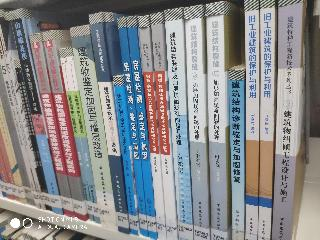book-spine: (9, 10, 62, 216), (71, 25, 116, 231), (266, 0, 304, 240), (89, 13, 129, 235), (0, 30, 45, 210), (43, 30, 85, 222), (30, 35, 72, 218), (118, 18, 148, 237), (0, 46, 40, 209), (165, 8, 193, 240), (127, 16, 156, 240), (139, 15, 166, 240), (58, 49, 93, 222), (66, 47, 100, 224), (151, 13, 177, 240), (185, 6, 208, 240), (16, 60, 51, 211), (13, 61, 48, 211), (206, 2, 227, 240), (256, 1, 275, 240), (113, 77, 138, 236), (243, 1, 259, 240), (231, 70, 244, 239)
